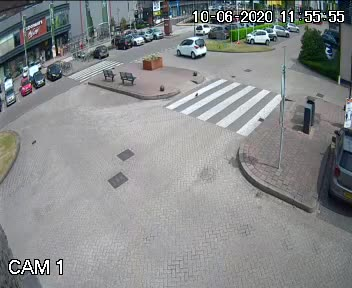car: (174, 35, 208, 58), (188, 19, 212, 40)
